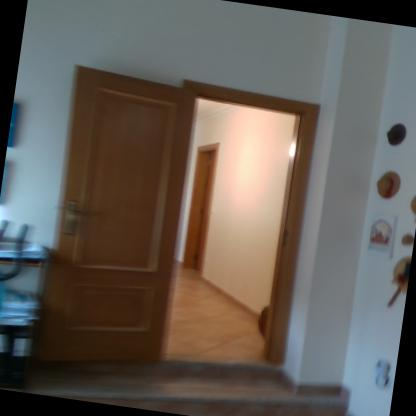open: (19, 49, 350, 400)
